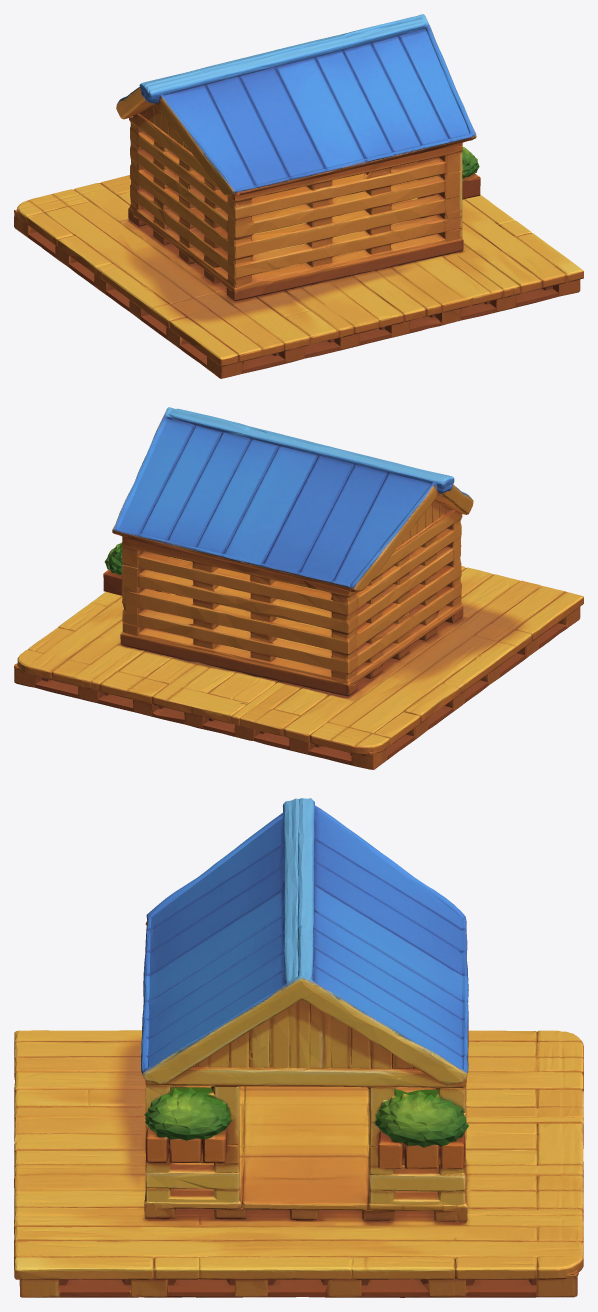
File: DOM_budka_9__base.glb
3 views of the same model, one above another, from view 1: azimuth 30°, elevation 25°; view 2: azimuth 150°, elevation 25°; view 3: azimuth 270°, elevation 25° (orthographic). The views are drawn at different scales.
Visible parts, largest first — view 1: tripo_node_d182d2a8-16e3-42d6-94c3-8481232c50ac; view 2: tripo_node_d182d2a8-16e3-42d6-94c3-8481232c50ac; view 3: tripo_node_d182d2a8-16e3-42d6-94c3-8481232c50ac.
Part boxes in pixels (bbox=[...]): tripo_node_d182d2a8-16e3-42d6-94c3-8481232c50ac: bbox=[14, 14, 583, 378]; tripo_node_d182d2a8-16e3-42d6-94c3-8481232c50ac: bbox=[14, 407, 583, 769]; tripo_node_d182d2a8-16e3-42d6-94c3-8481232c50ac: bbox=[14, 798, 583, 1297].
Size of the model in its own units: 0.9718 by 0.5467 by 0.9804.
Materials: 1 (1 with a texture image).
